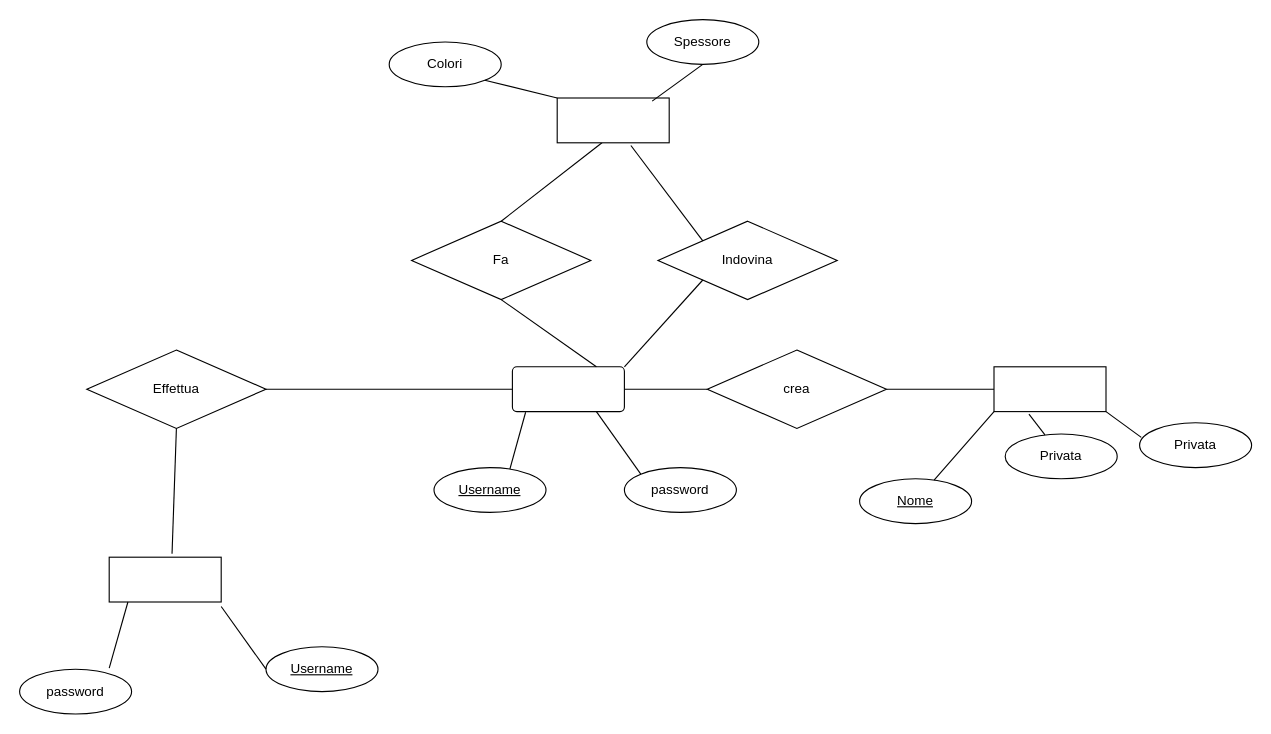
Some shapes in this 1271 by 734 pixel diagram are drawn without their labels. The centre of each missing label's shape, as x and y in pixels:
"Disegni" belongs at pixel 612 120.
"Registrazione" belongs at pixel 164 579.
"Stanza" belongs at pixel 1049 389.
"UTENTE" belongs at pixel 567 389.
